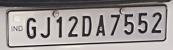1: (55, 17, 67, 41)
2: (152, 12, 166, 36), (68, 15, 80, 39)
5: (123, 13, 137, 37), (137, 12, 151, 34)
7: (109, 13, 121, 36)
A: (95, 13, 106, 38)
D: (81, 15, 95, 39)
G: (25, 16, 38, 39)
J: (39, 16, 53, 40)
